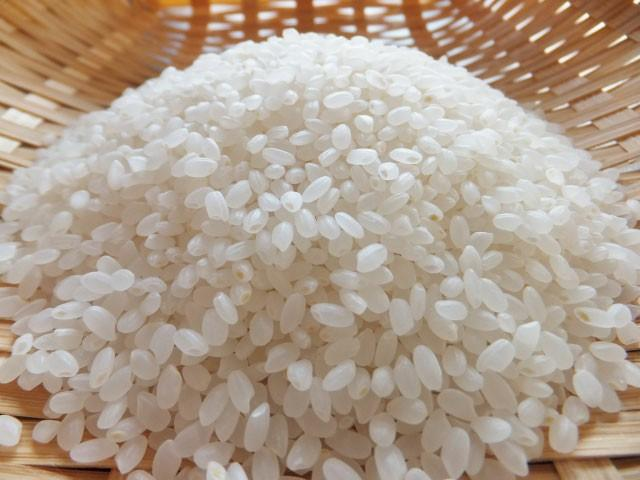WhiteRice: (0, 30, 640, 480)
